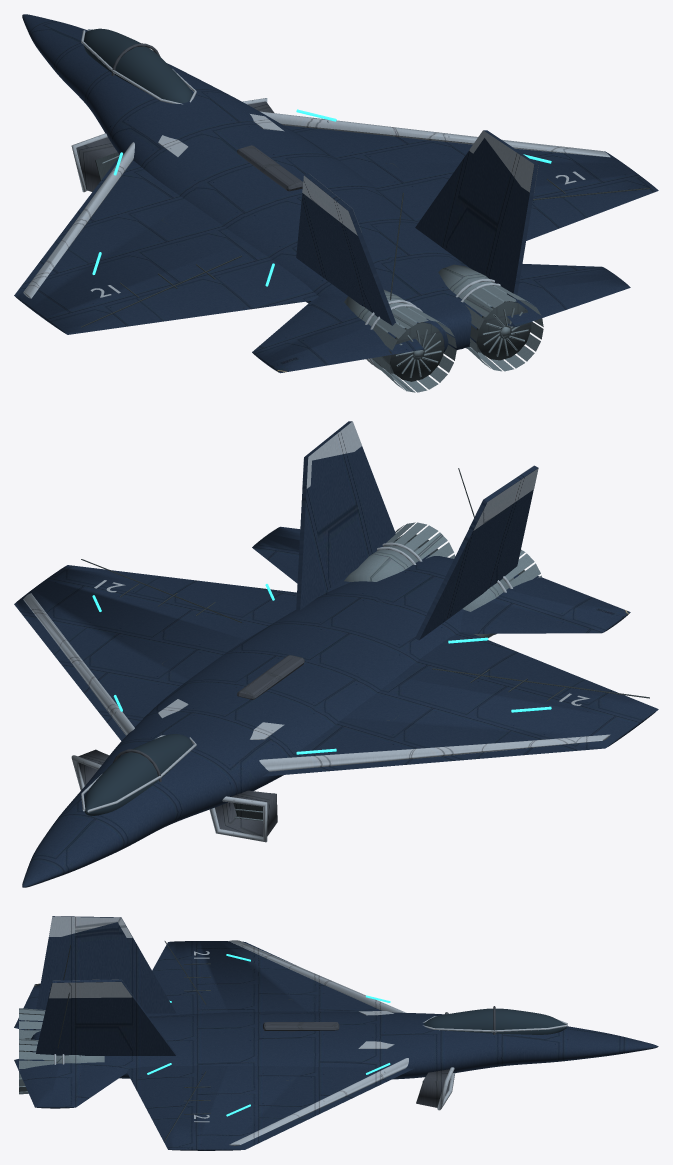
Rendered from haneul.glb.
The picture shows the model from 3 angles, top to bottom: view 1: azimuth 30°, elevation 25°; view 2: azimuth 150°, elevation 25°; view 3: azimuth 270°, elevation 25°; orthographic projection. The views are drawn at different scales.
Visible parts, largest first — view 1: midnight-surfaces, silver-surfaces, titanium-surfaces, graphite-surfaces, Cockpit glass-surfaces, carbon-surfaces; view 2: midnight-surfaces, silver-surfaces, titanium-surfaces, Cockpit glass-surfaces, carbon-surfaces, graphite-surfaces; view 3: midnight-surfaces, silver-surfaces, Cockpit glass-surfaces, titanium-surfaces, carbon-surfaces, graphite-surfaces, Cyan sensor optics-surfaces.
Part boxes in pixels (x1,y1,x2,y2): midnight-surfaces: (14,14,658,373); silver-surfaces: (23,29,610,370); titanium-surfaces: (102,155,543,392); graphite-surfaces: (81,152,649,381); Cockpit glass-surfaces: (84,28,192,102); carbon-surfaces: (76,43,303,191); midnight-surfaces: (14,421,658,887); silver-surfaces: (23,421,610,842); titanium-surfaces: (235,522,541,821); Cockpit glass-surfaces: (84,734,192,816); carbon-surfaces: (78,655,304,836); graphite-surfaces: (81,468,649,819); midnight-surfaces: (14,916,658,1150); silver-surfaces: (49,916,567,1145); Cockpit glass-surfaces: (424,1008,566,1034); titanium-surfaces: (19,1008,425,1094); carbon-surfaces: (263,1006,495,1107); graphite-surfaces: (27,941,424,1140); Cyan sensor optics-surfaces: (147,954,390,1116).
Bounding box in the file's own units: 7.76 × 2.25 × 10.17.
7 materials, 5 textured.
